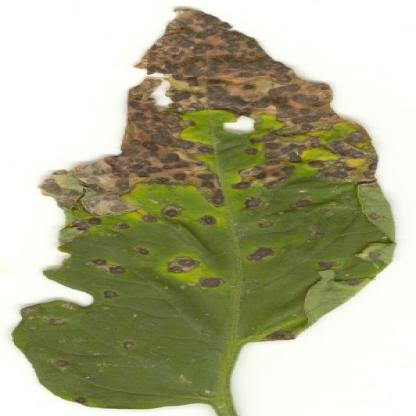tomato septoria leaf spot: (24, 5, 401, 415)
